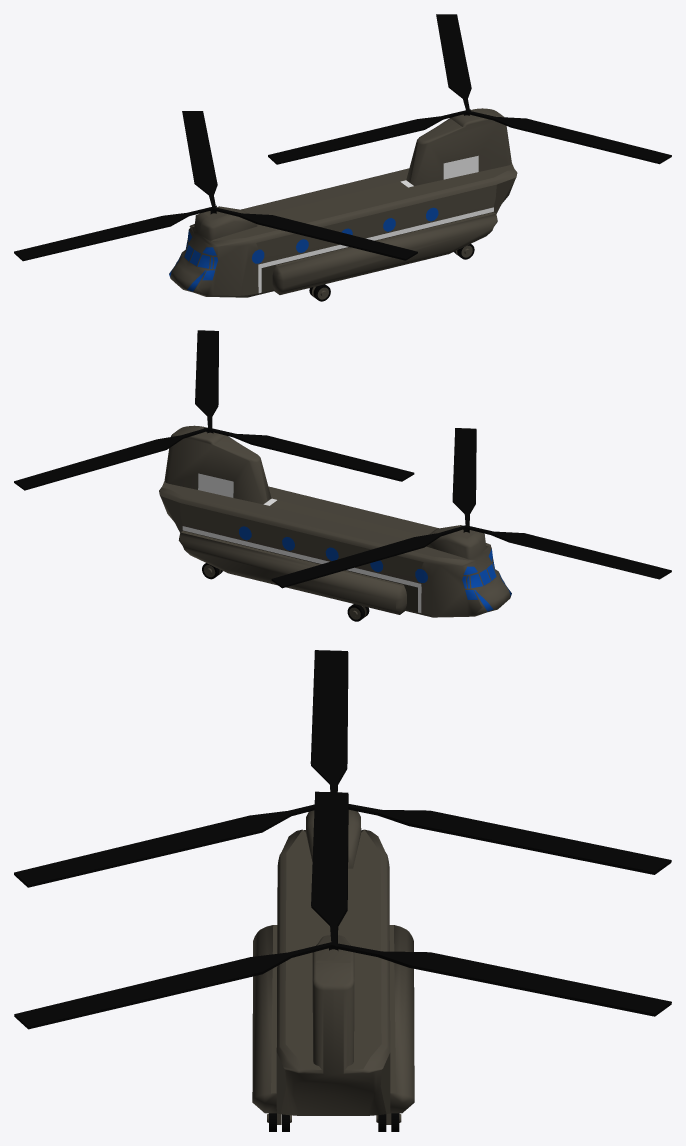
File: helicopter.fbx
The picture shows the model from 3 angles, top to bottom: view 1: azimuth 30°, elevation 25°; view 2: azimuth 150°, elevation 25°; view 3: azimuth 270°, elevation 25°; orthographic projection. The views are drawn at different scales.
Visible parts, largest first — view 1: Cube, Cube.002, Cube.001; view 2: Cube, Cube.001, Cube.002; view 3: Cube, Cube.002, Cube.001.
Boxes of the visible parts, bbox=[...] form: Cube: bbox=[169, 108, 517, 301]; Cube.002: bbox=[268, 14, 671, 164]; Cube.001: bbox=[14, 111, 417, 261]; Cube: bbox=[159, 425, 511, 621]; Cube.001: bbox=[271, 428, 671, 588]; Cube.002: bbox=[14, 330, 414, 490]; Cube: bbox=[252, 810, 414, 1131]; Cube.002: bbox=[14, 791, 671, 1029]; Cube.001: bbox=[14, 650, 671, 887].
Bounding box in the file's own units: 1663 × 385 × 1072.
